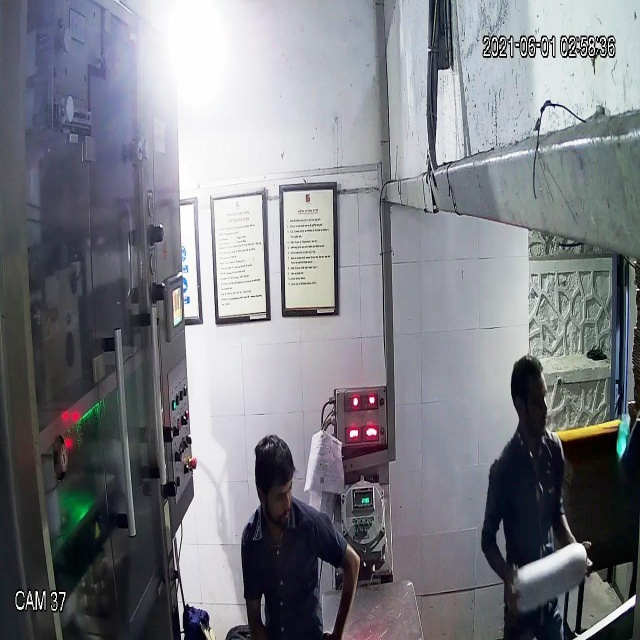Sin_gafas: (250, 475, 295, 511)
